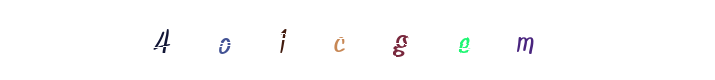1: (310, 0, 390, 80)
4: (160, 0, 240, 80)
C: (317, 0, 397, 80)
E: (352, 0, 432, 80)
G: (334, 0, 414, 80)
M: (424, 0, 504, 80)
O: (306, 0, 386, 80)
